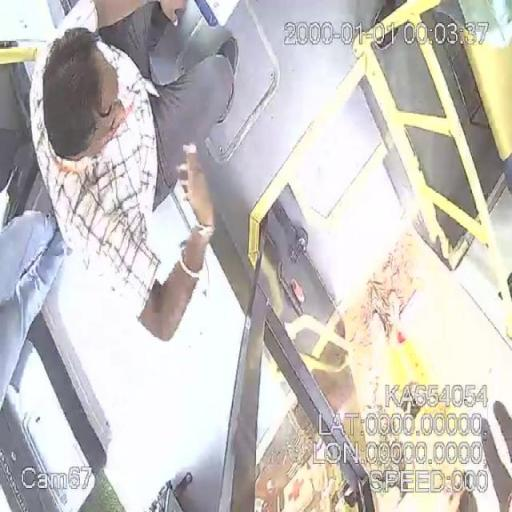persona: (25, 2, 278, 340)
